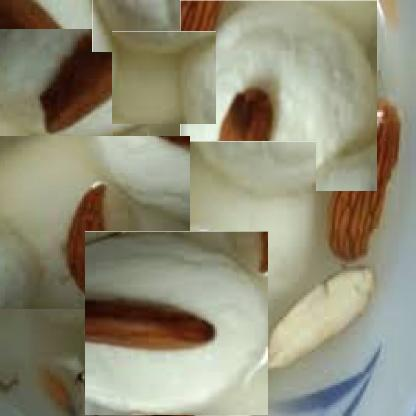rasgulla: (180, 0, 377, 191), (0, 127, 182, 317), (84, 231, 268, 416), (180, 141, 316, 292), (0, 14, 132, 161), (112, 31, 216, 124), (92, 0, 253, 52)
